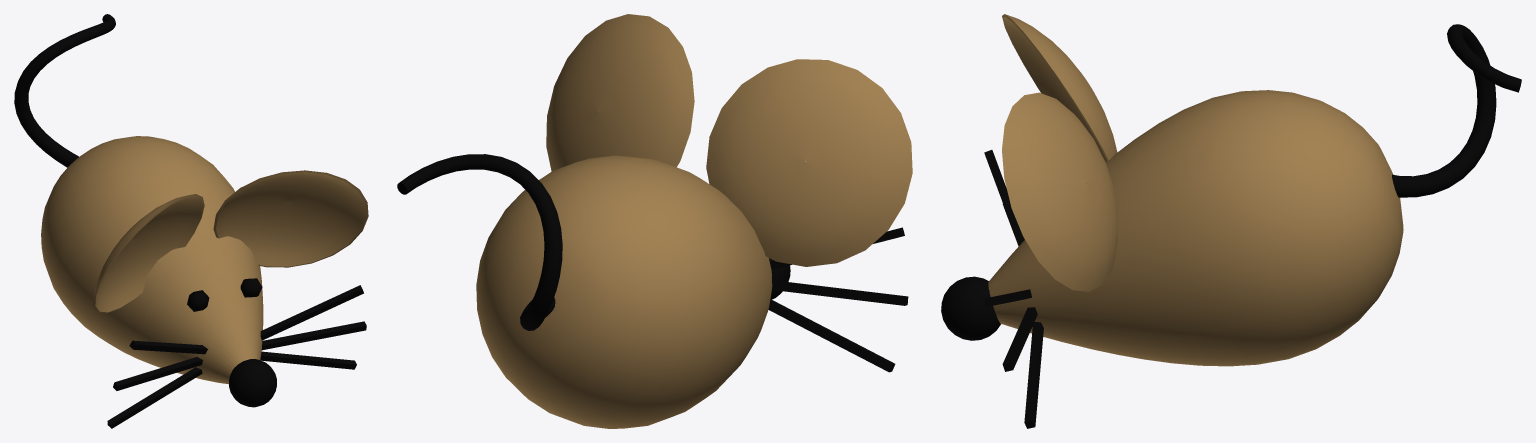
File: Mouse.FBX
3 renders of one model, left to right at view 1: azimuth 30°, elevation 25°; view 2: azimuth 150°, elevation 25°; view 3: azimuth 270°, elevation 25°, orthographic. The views are drawn at different scales.
Visible parts, largest first — view 1: BADY, R-R, R-L, WAI, BI, I01, I02, I06, I03, I04, I05, IS-L (+1 smaller); view 2: BADY, R-L, R-R, WAI, I06, I04; view 3: BADY, R-R, WAI, R-L, BI, I03, I02, I05.
Part boxes in pixels (box(x1,y1,x2,y2)): BADY: box(41, 136, 263, 384); R-R: box(213, 170, 368, 267); R-L: box(93, 194, 204, 313); WAI: box(14, 14, 115, 167); BI: box(229, 359, 276, 407); I01: box(260, 285, 363, 340); I02: box(261, 321, 366, 350); I06: box(107, 367, 202, 428); I03: box(260, 351, 356, 369); I04: box(113, 357, 202, 390); I05: box(129, 340, 207, 354); IS-L: box(187, 290, 209, 311); BADY: box(476, 155, 772, 428); R-L: box(706, 59, 912, 266); R-R: box(546, 14, 694, 171); WAI: box(397, 154, 562, 330); I06: box(768, 299, 895, 372); I04: box(772, 280, 908, 305); BADY: box(988, 90, 1403, 366); R-R: box(1002, 92, 1118, 291); WAI: box(1392, 24, 1521, 197); R-L: box(1002, 14, 1117, 161); BI: box(941, 276, 1000, 340); I03: box(1024, 322, 1043, 428); I02: box(1002, 307, 1037, 371); I05: box(984, 150, 1024, 245).
Size of the model in its own units: 153 by 136 by 216.
